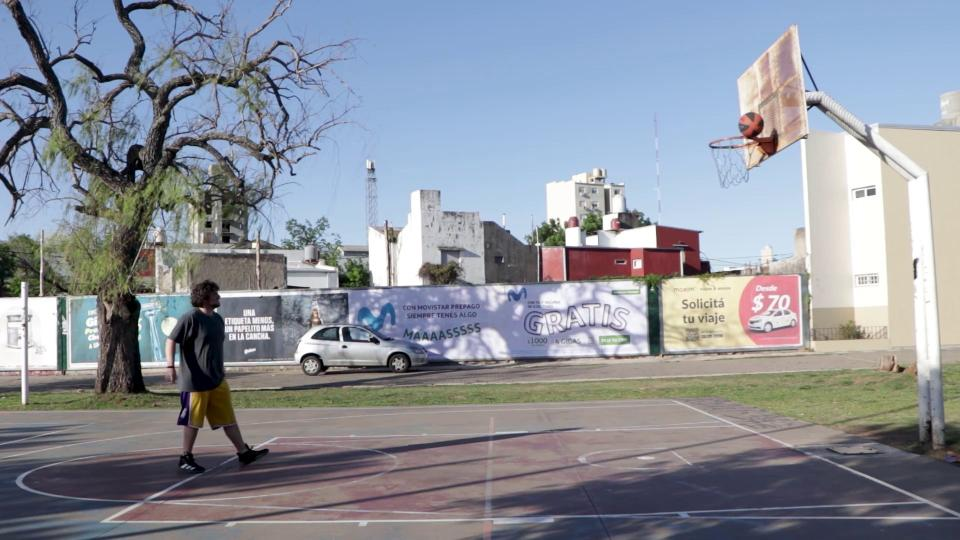hoop: (708, 135, 760, 150)
